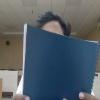notebook: (21, 22, 99, 99)
